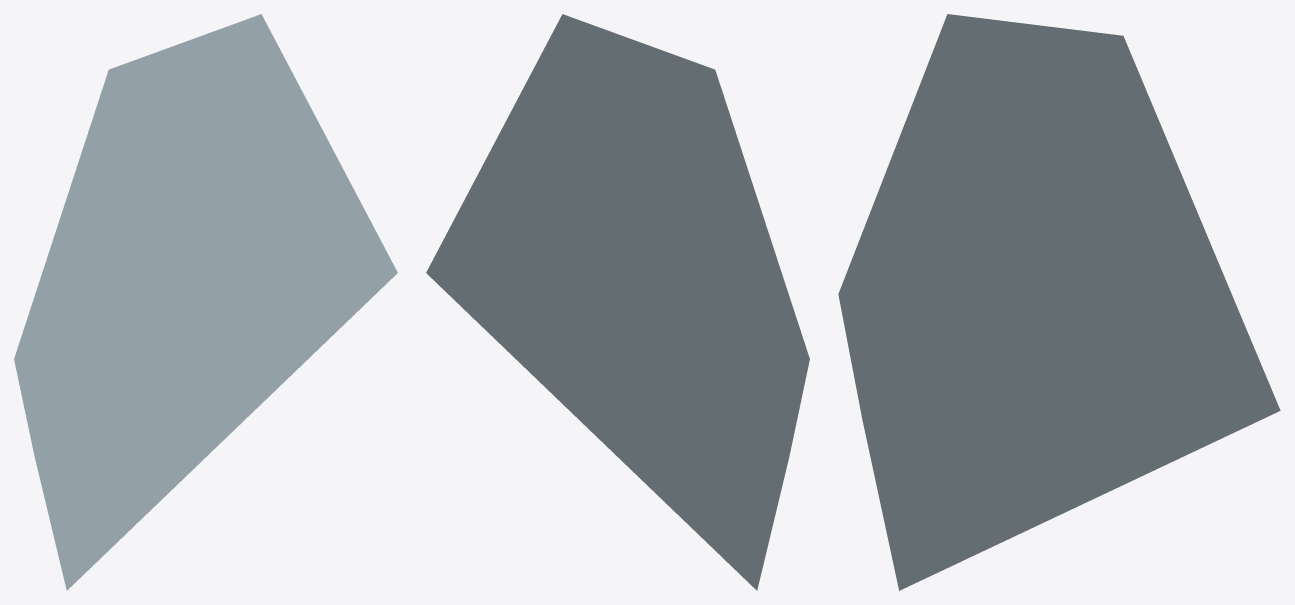
The picture shows the model from 3 angles, left to right: view 1: azimuth 30°, elevation 25°; view 2: azimuth 150°, elevation 25°; view 3: azimuth 330°, elevation 25°; orthographic projection. The views are drawn at different scales.
Parts seen in each view (by area): view 1: pCube46; view 2: pCube46; view 3: pCube46.
Part boxes in pixels (x1,y1,x2,y2): pCube46: (14, 14, 397, 590); pCube46: (426, 14, 809, 590); pCube46: (838, 14, 1280, 590).
Bounding box in the file's own units: 36.16 × 47.65 × 0.
